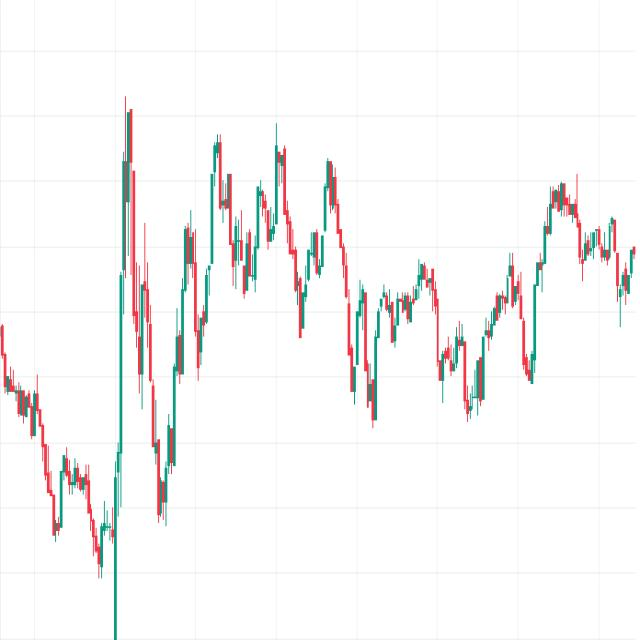Triple-Top: (197, 128, 357, 297)
